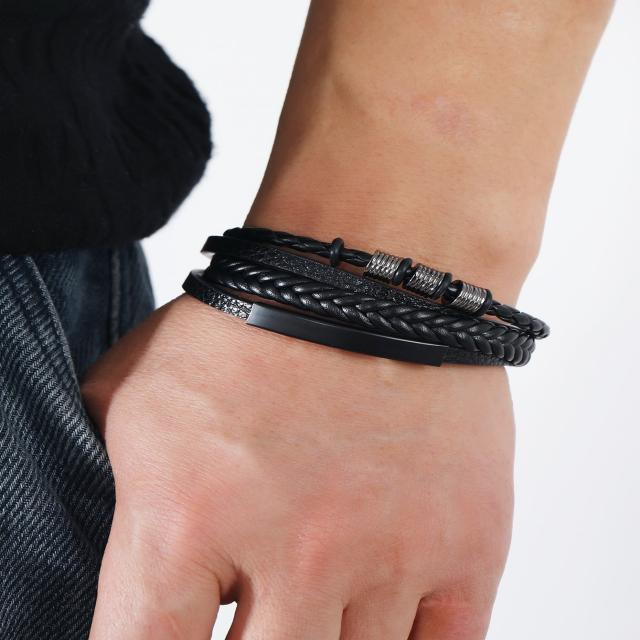bracelet: (139, 178, 640, 497)
